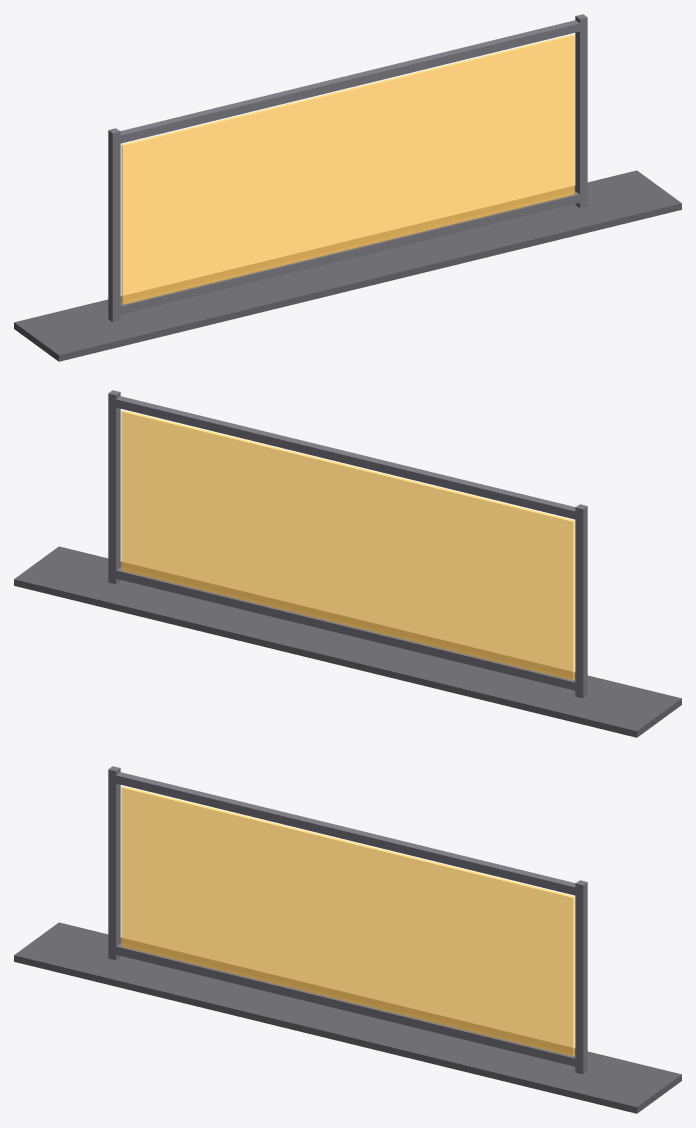
The model's file is construction_barrier.glb.
3 views of the same model, one above another, from view 1: azimuth 30°, elevation 25°; view 2: azimuth 150°, elevation 25°; view 3: azimuth 330°, elevation 25° (orthographic).
Visible parts, largest first — view 1: mesh, ground, frame_top, frame_bot, frame_l, frame_r; view 2: mesh, ground, frame_top, frame_bot, frame_l, frame_r; view 3: mesh, ground, frame_top, frame_bot, frame_r, frame_l.
Part boxes in pixels (x1,y1,x2,y2): mesh: (121,34,574,304); ground: (14,170,681,361); frame_top: (117,20,583,143); frame_bot: (117,191,583,315); frame_l: (108,128,120,322); frame_r: (575,14,587,208); mesh: (121,410,574,680); ground: (14,546,681,737); frame_top: (112,396,579,519); frame_bot: (112,567,579,691); frame_l: (575,504,587,698); frame_r: (108,390,120,584); mesh: (121,786,574,1056); ground: (14,922,681,1113); frame_top: (112,772,579,895); frame_bot: (112,943,579,1067); frame_r: (575,880,587,1074); frame_l: (108,766,120,960).
Size of the model in its own units: 4 by 1.2 by 0.5.
